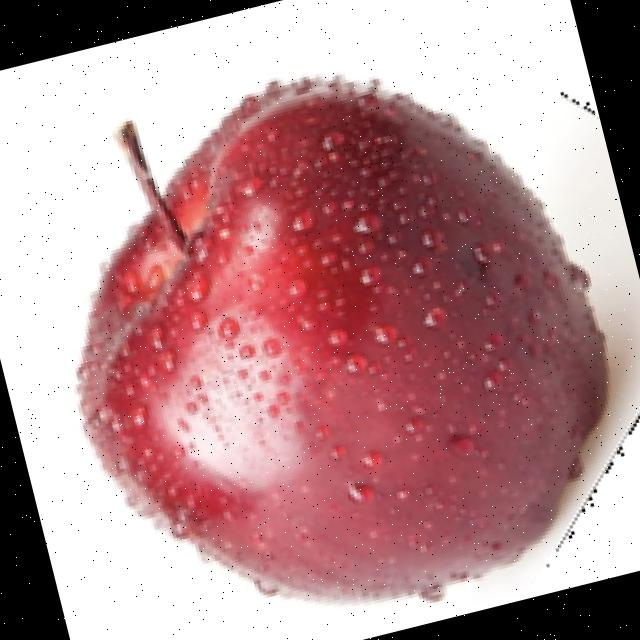apple: (69, 68, 640, 609)
